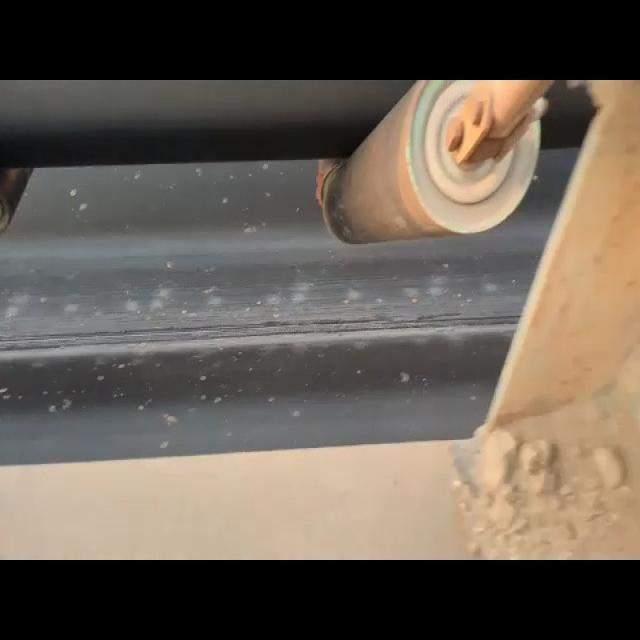Wear: (0, 308, 524, 357)
